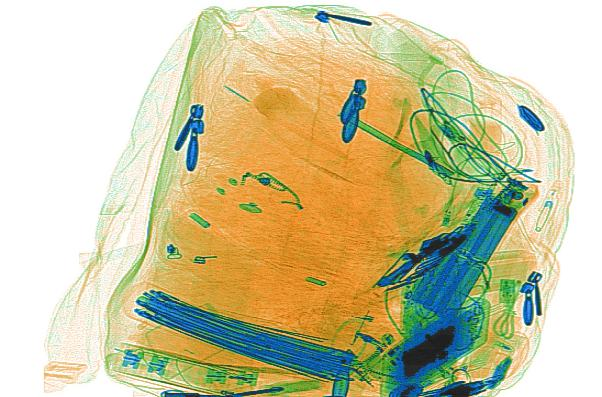battery: (399, 170, 538, 328)
